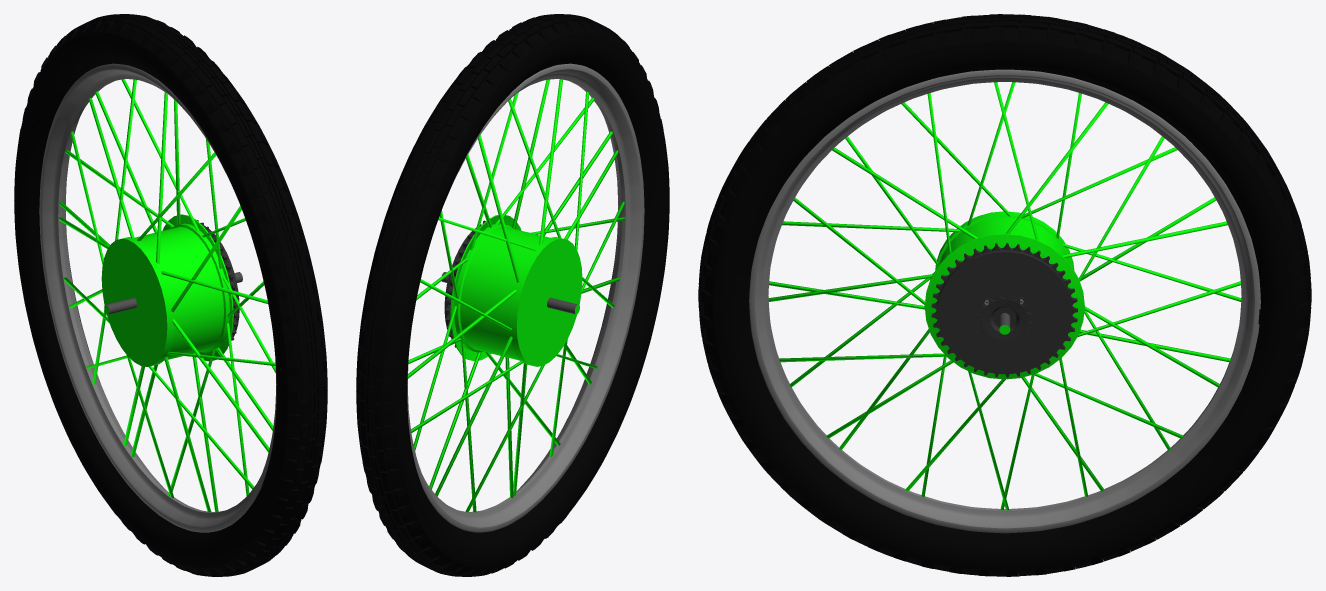
File: WheelR.fbx
3 renders of one model, left to right at view 1: azimuth 30°, elevation 25°; view 2: azimuth 150°, elevation 25°; view 3: azimuth 270°, elevation 25°, orthographic. The views are drawn at different scales.
Parts seen in each view (by area): view 1: Cube.007; view 2: Cube.007; view 3: Cube.007.
Boxes of the visible parts, box(x1,y1,x2,y2) form: Cube.007: box(14, 14, 327, 576); Cube.007: box(356, 14, 669, 576); Cube.007: box(698, 14, 1311, 576).
Size of the model in its own units: 182 by 677 by 677.
